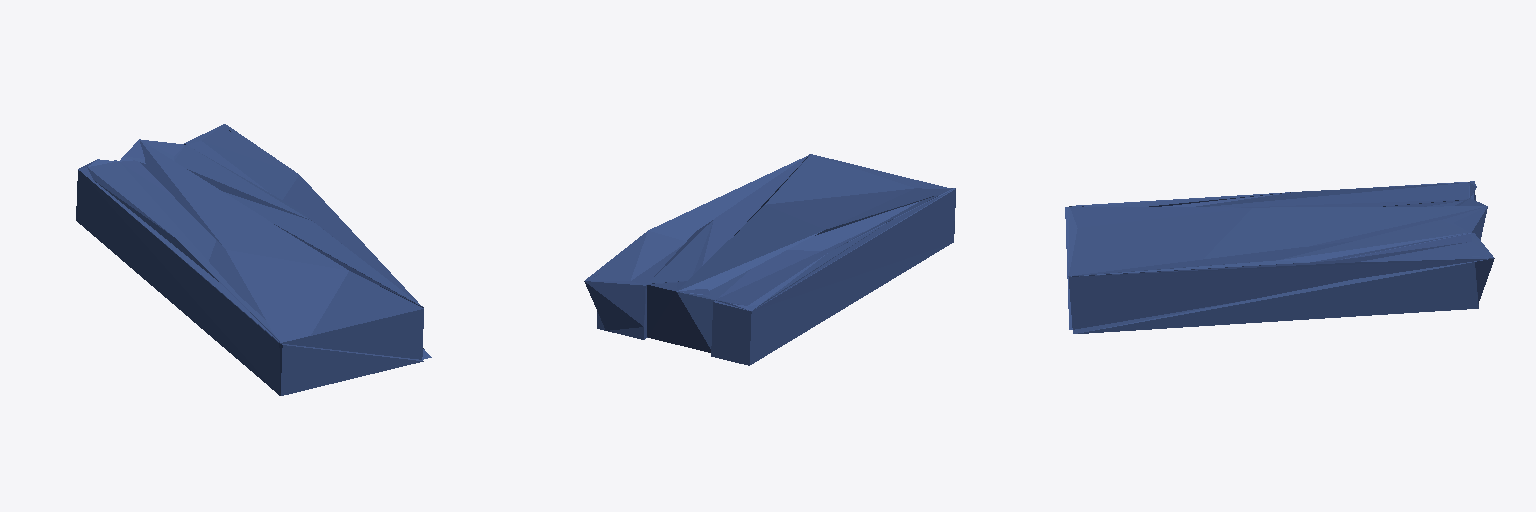
File: pillar_8.obj
3 views of the same model, side by side, from view 1: azimuth 30°, elevation 25°; view 2: azimuth 150°, elevation 25°; view 3: azimuth 270°, elevation 25° (orthographic).
Visible parts, largest first — view 1: Cube.009_Cube.003; view 2: Cube.009_Cube.003; view 3: Cube.009_Cube.003.
Boxes of the visible parts, box(x1,y1,x2,y2) form: Cube.009_Cube.003: box(76, 124, 431, 395); Cube.009_Cube.003: box(584, 154, 955, 365); Cube.009_Cube.003: box(1065, 181, 1494, 333).
Size of the model in its own units: 1.18 by 0.6004 by 2.68.